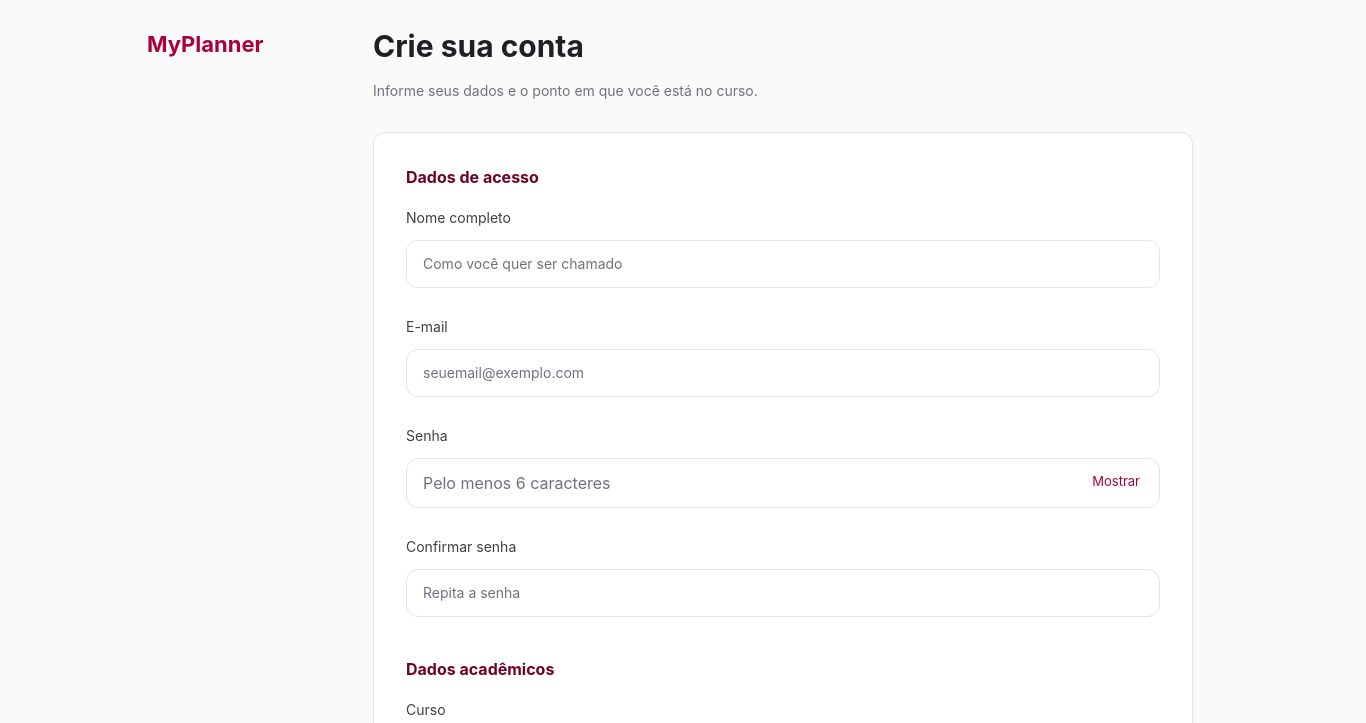
RegisterPage (autocadastro) › avisa quando o e-mail já tem conta e permite tentar de novo
Type "  Luisa Aluna  " into the field labelled "Nome completo" at (783, 264), box [406,240,1160,288]
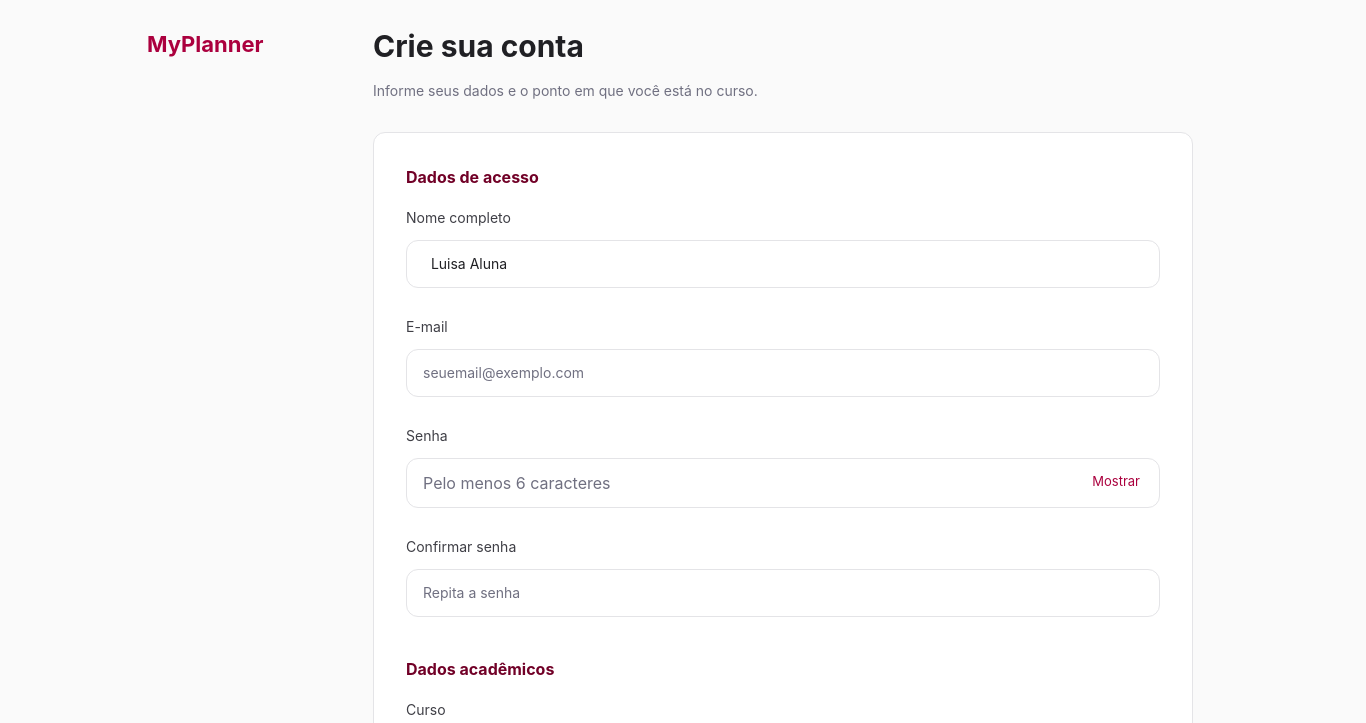
Type "luisa@ufop.edu.br" into the field labelled "E-mail" at (783, 373), box [406,349,1160,397]
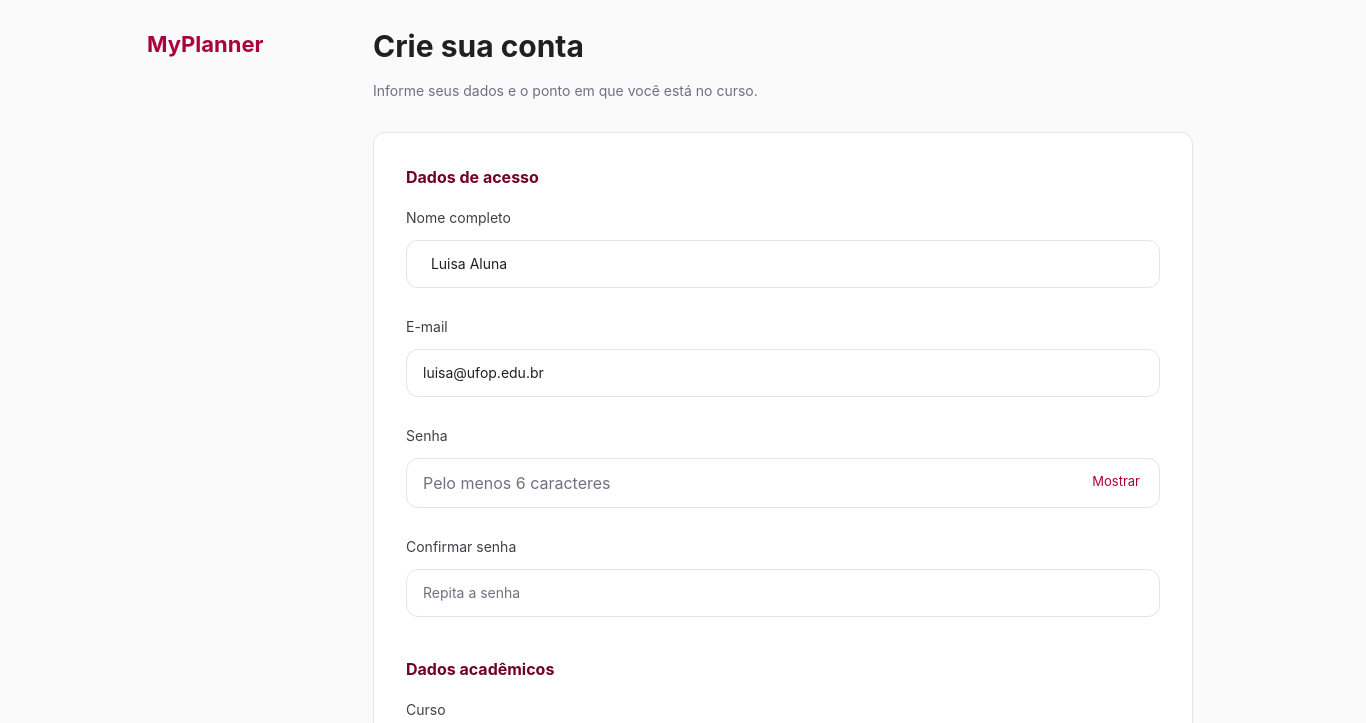
Type "senha123" into the password field labelled "Senha" at (783, 483), box [406,458,1160,508]
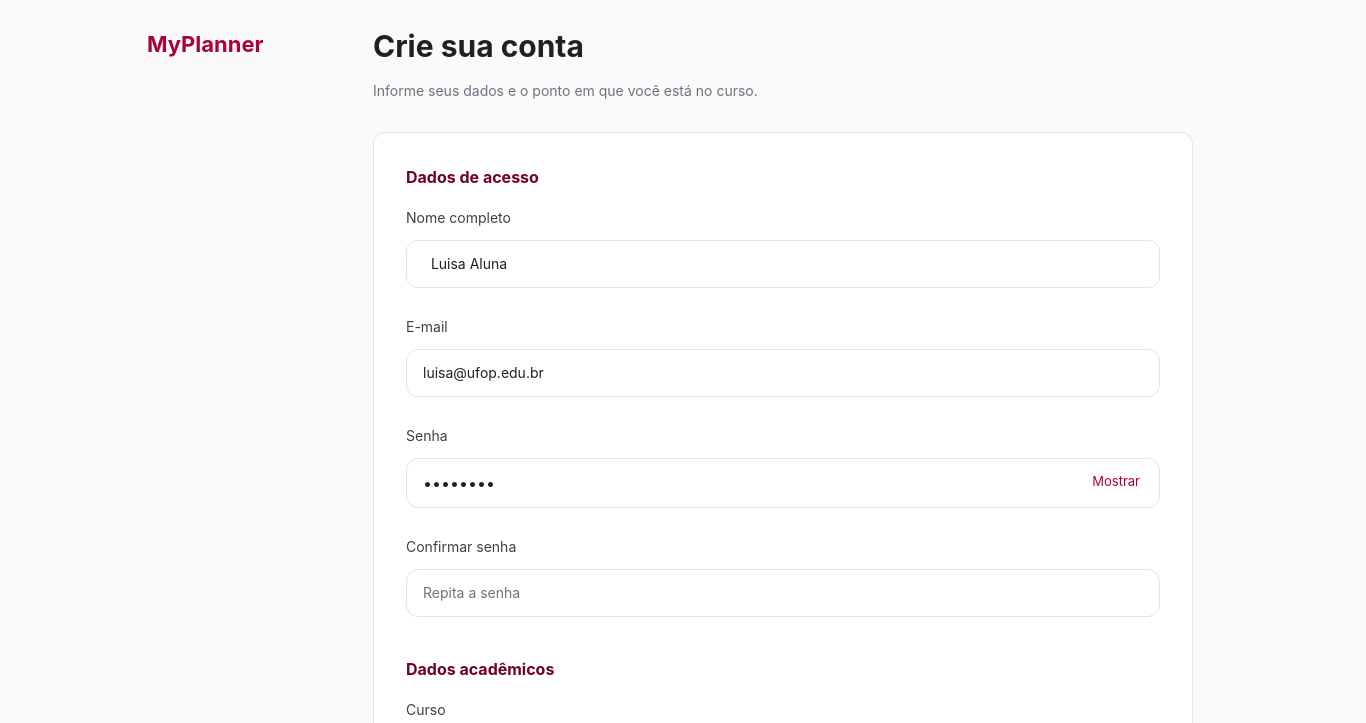
Type "senha123" into the password field labelled "Confirmar senha" at (783, 593), box [406,569,1160,617]
(page scrolled)
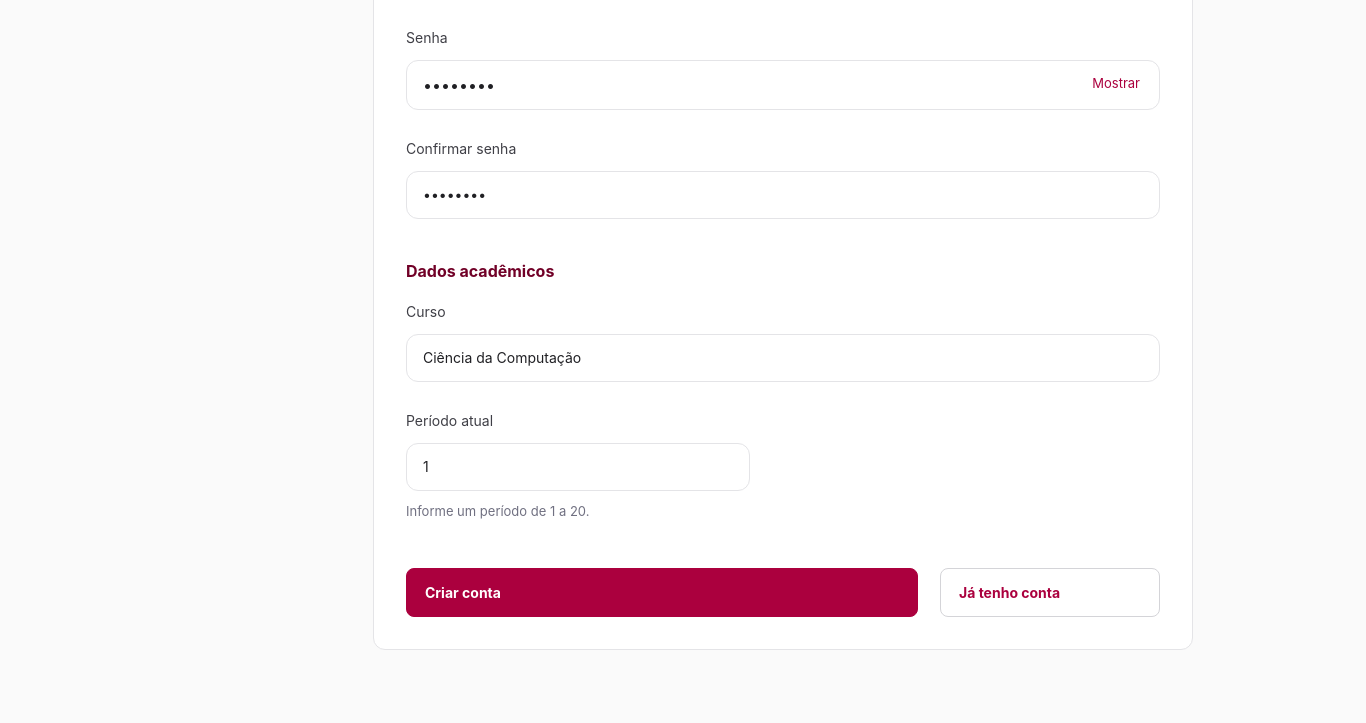
Replace the text in the number field labelled "Período atual" with "4" at (578, 467), box [406,443,750,491]
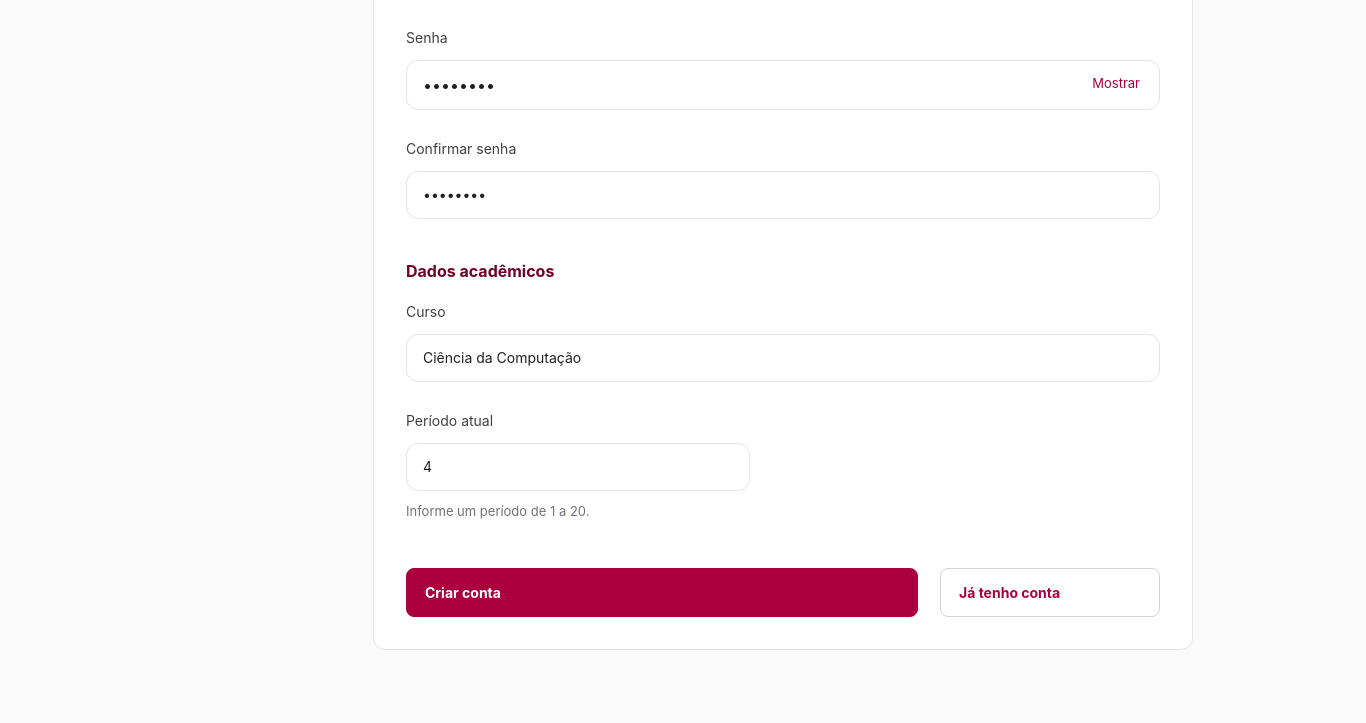
Click the button "Criar conta" at (463, 592), box [406,568,918,617]
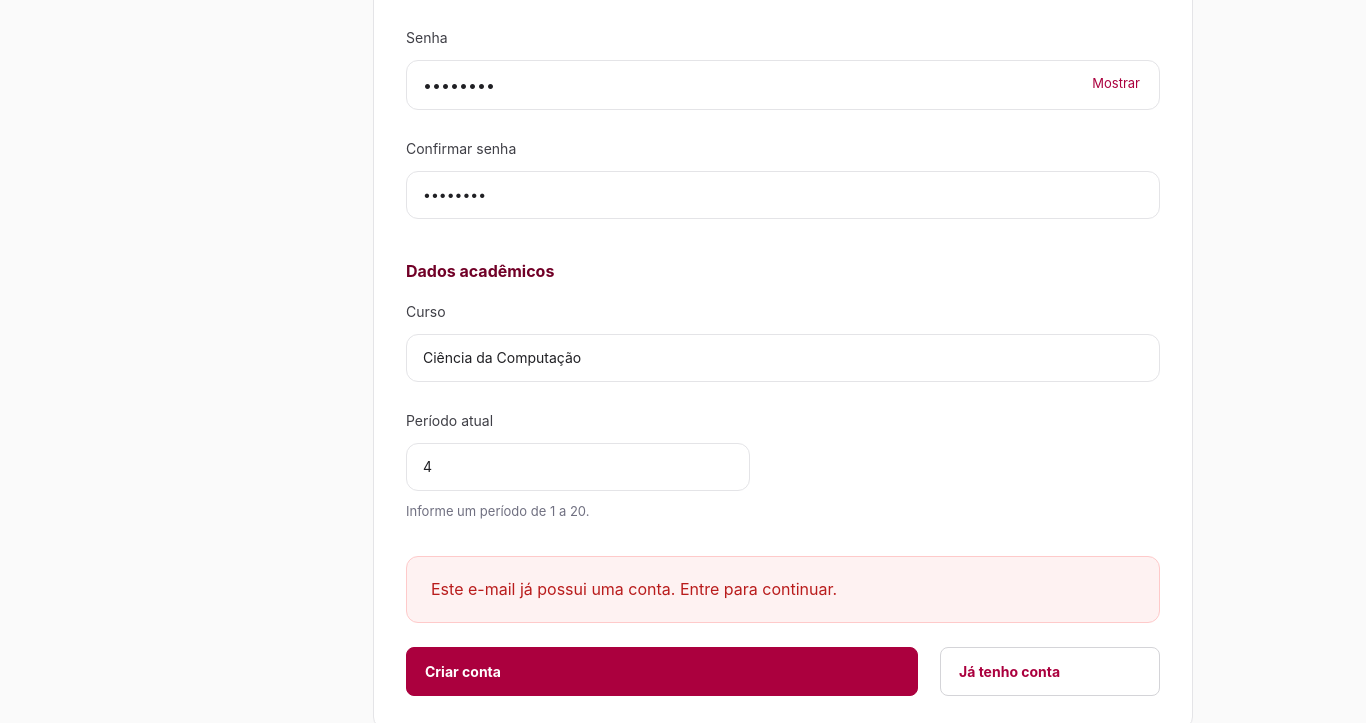
Expected: the button "Criar conta" is enabled, [406,647,918,696]
Expected: the message reads "Este e-mail já possui uma conta. Entre para continuar.", [431,579,837,599]
